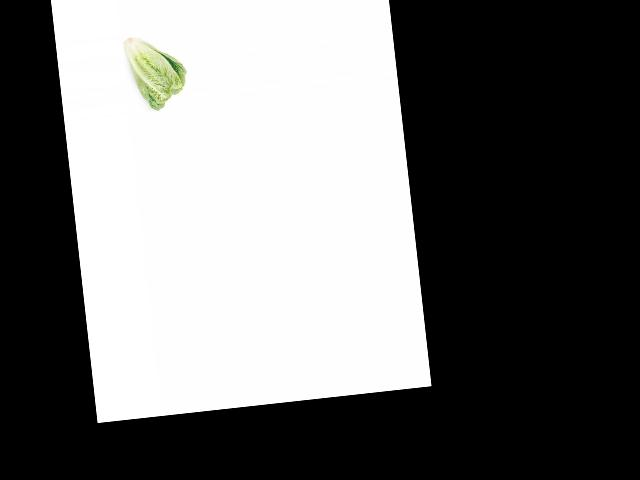lettuce: (120, 26, 189, 113)
